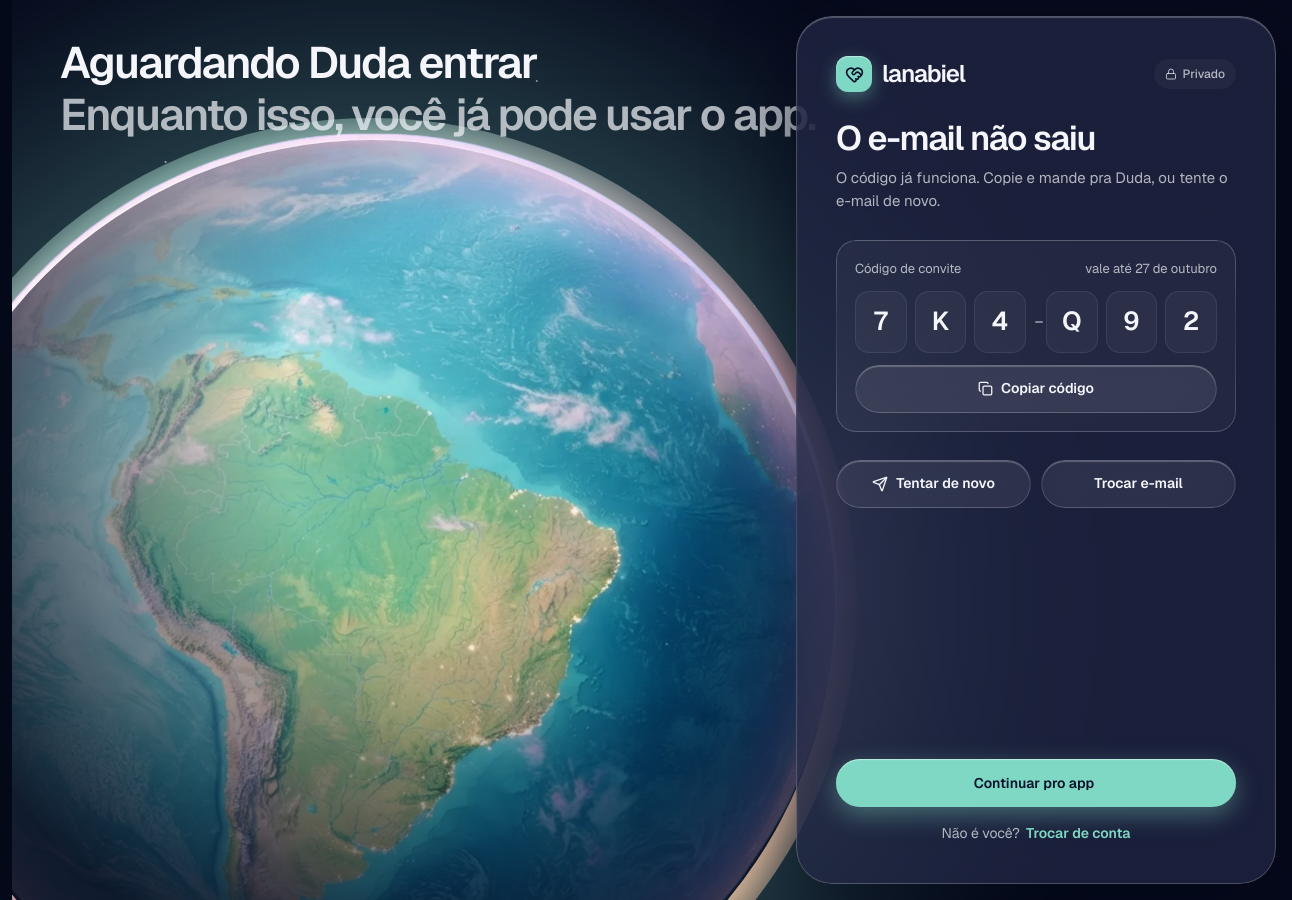
Scenario: A23 — envio que falhou não diz "enviado" (R5) › mostra o código, "Tentar de novo", e nenhuma forma de "enviado"
Expected: the heading "O e-mail não saiu" is shown, [836, 116, 1095, 160]
Step 1. Click the button "Tentar de novo" → (934, 484), box [836, 460, 1031, 508]
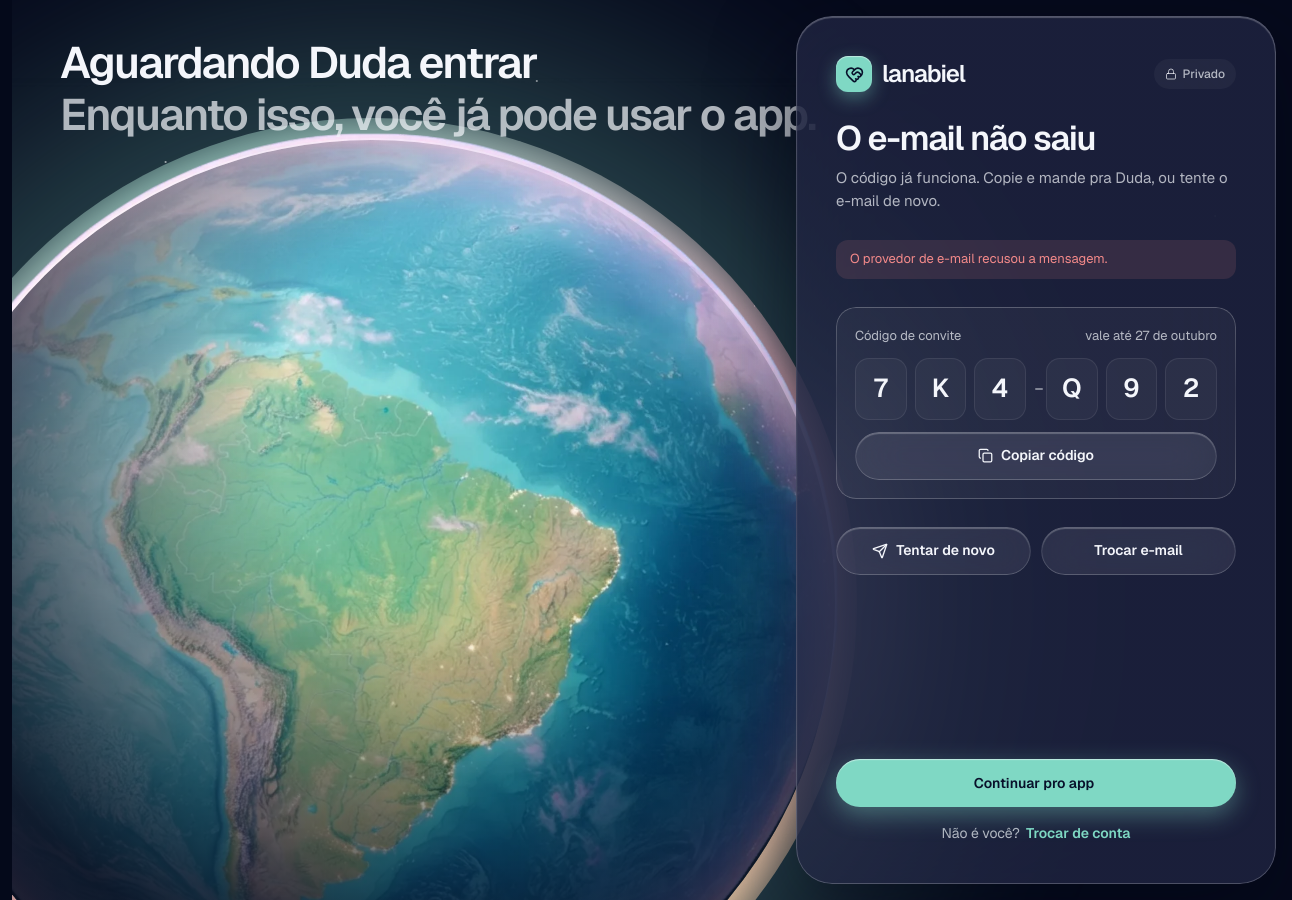
Expected: the picture named "Código 7K4-Q92" is shown, [855, 358, 1217, 420]
Expected: the message shows "recusou", [850, 250, 1107, 267]
